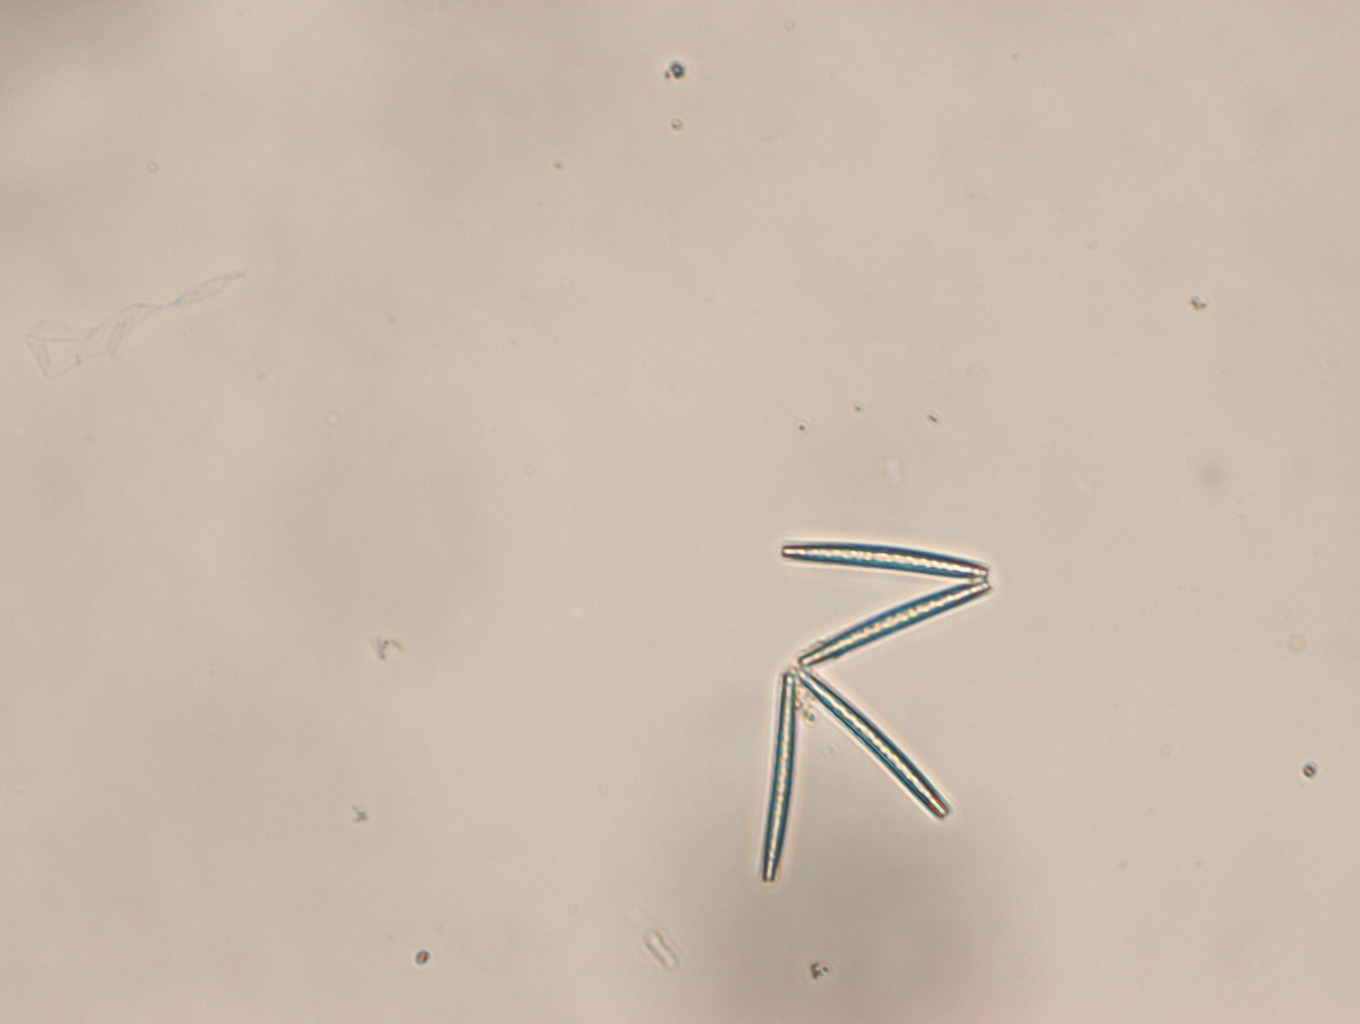thalassionema nitzschioides: (758, 541, 989, 885)
